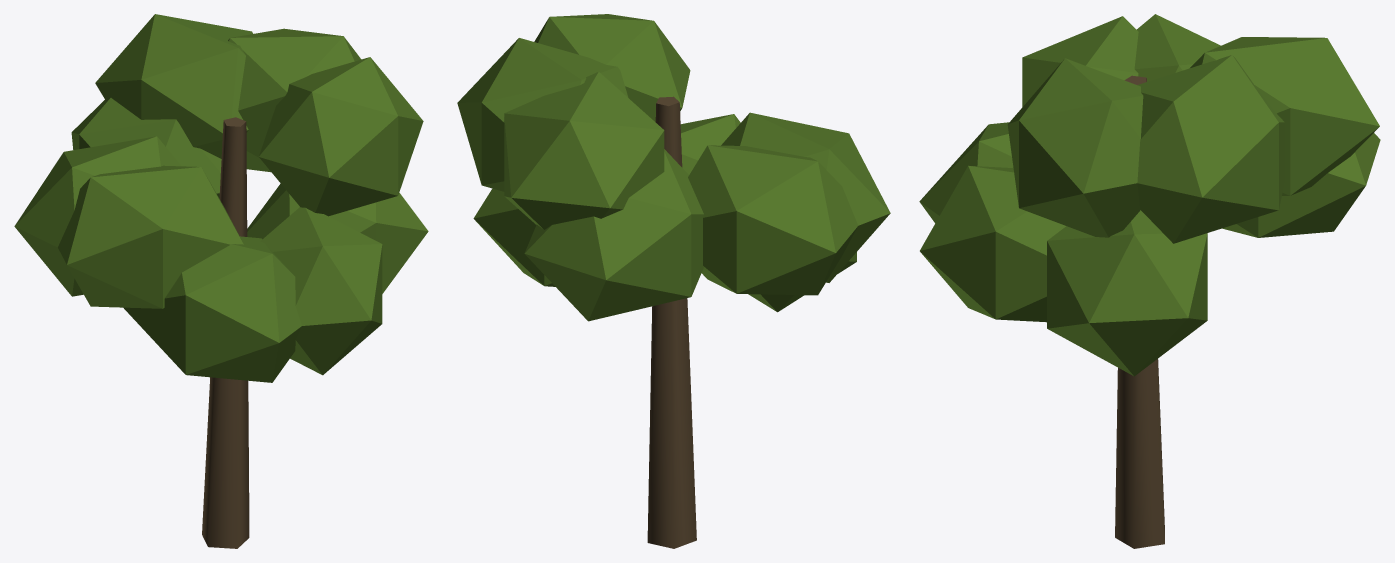
The picture shows the model from 3 angles, left to right: view 1: azimuth 30°, elevation 25°; view 2: azimuth 150°, elevation 25°; view 3: azimuth 270°, elevation 25°; orthographic projection. The views are drawn at different scales.
Parts seen in each view (by area): view 1: oak-leaf; view 2: oak-leaf; view 3: oak-leaf.
Boxes of the visible parts, x1,y1,x2,y2 form: oak-leaf: (14,14,428,548); oak-leaf: (457,14,890,548); oak-leaf: (919,14,1380,548).
Size of the model in its own units: 7.02 by 8.5 by 7.
